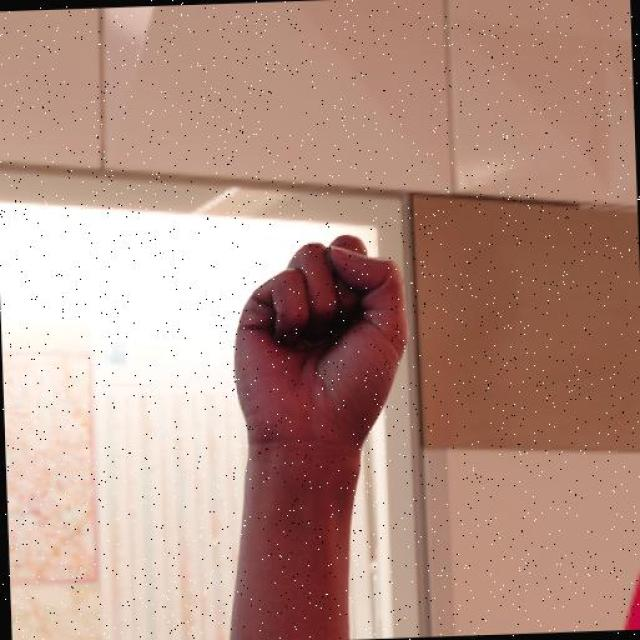S: (223, 225, 412, 476)
